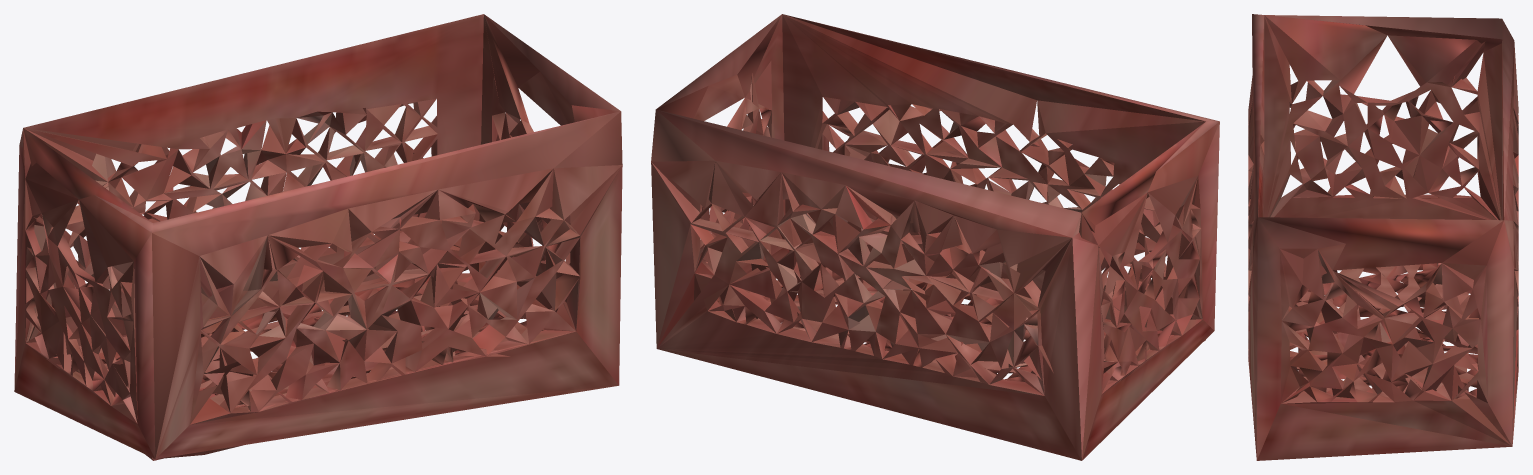
The model's file is plastic_crate_03.glb.
3 renders of one model, left to right at view 1: azimuth 30°, elevation 25°; view 2: azimuth 150°, elevation 25°; view 3: azimuth 270°, elevation 25°, orthographic. The views are drawn at different scales.
Visible parts, largest first — view 1: plastic_crate_03; view 2: plastic_crate_03; view 3: plastic_crate_03.
Part boxes in pixels (x1,y1,x2,y2): plastic_crate_03: (14,14,622,460); plastic_crate_03: (651,14,1219,460); plastic_crate_03: (1248,14,1518,460).
Size of the model in its own units: 0.4813 by 0.2647 by 0.265.
1 material, 1 textured.
